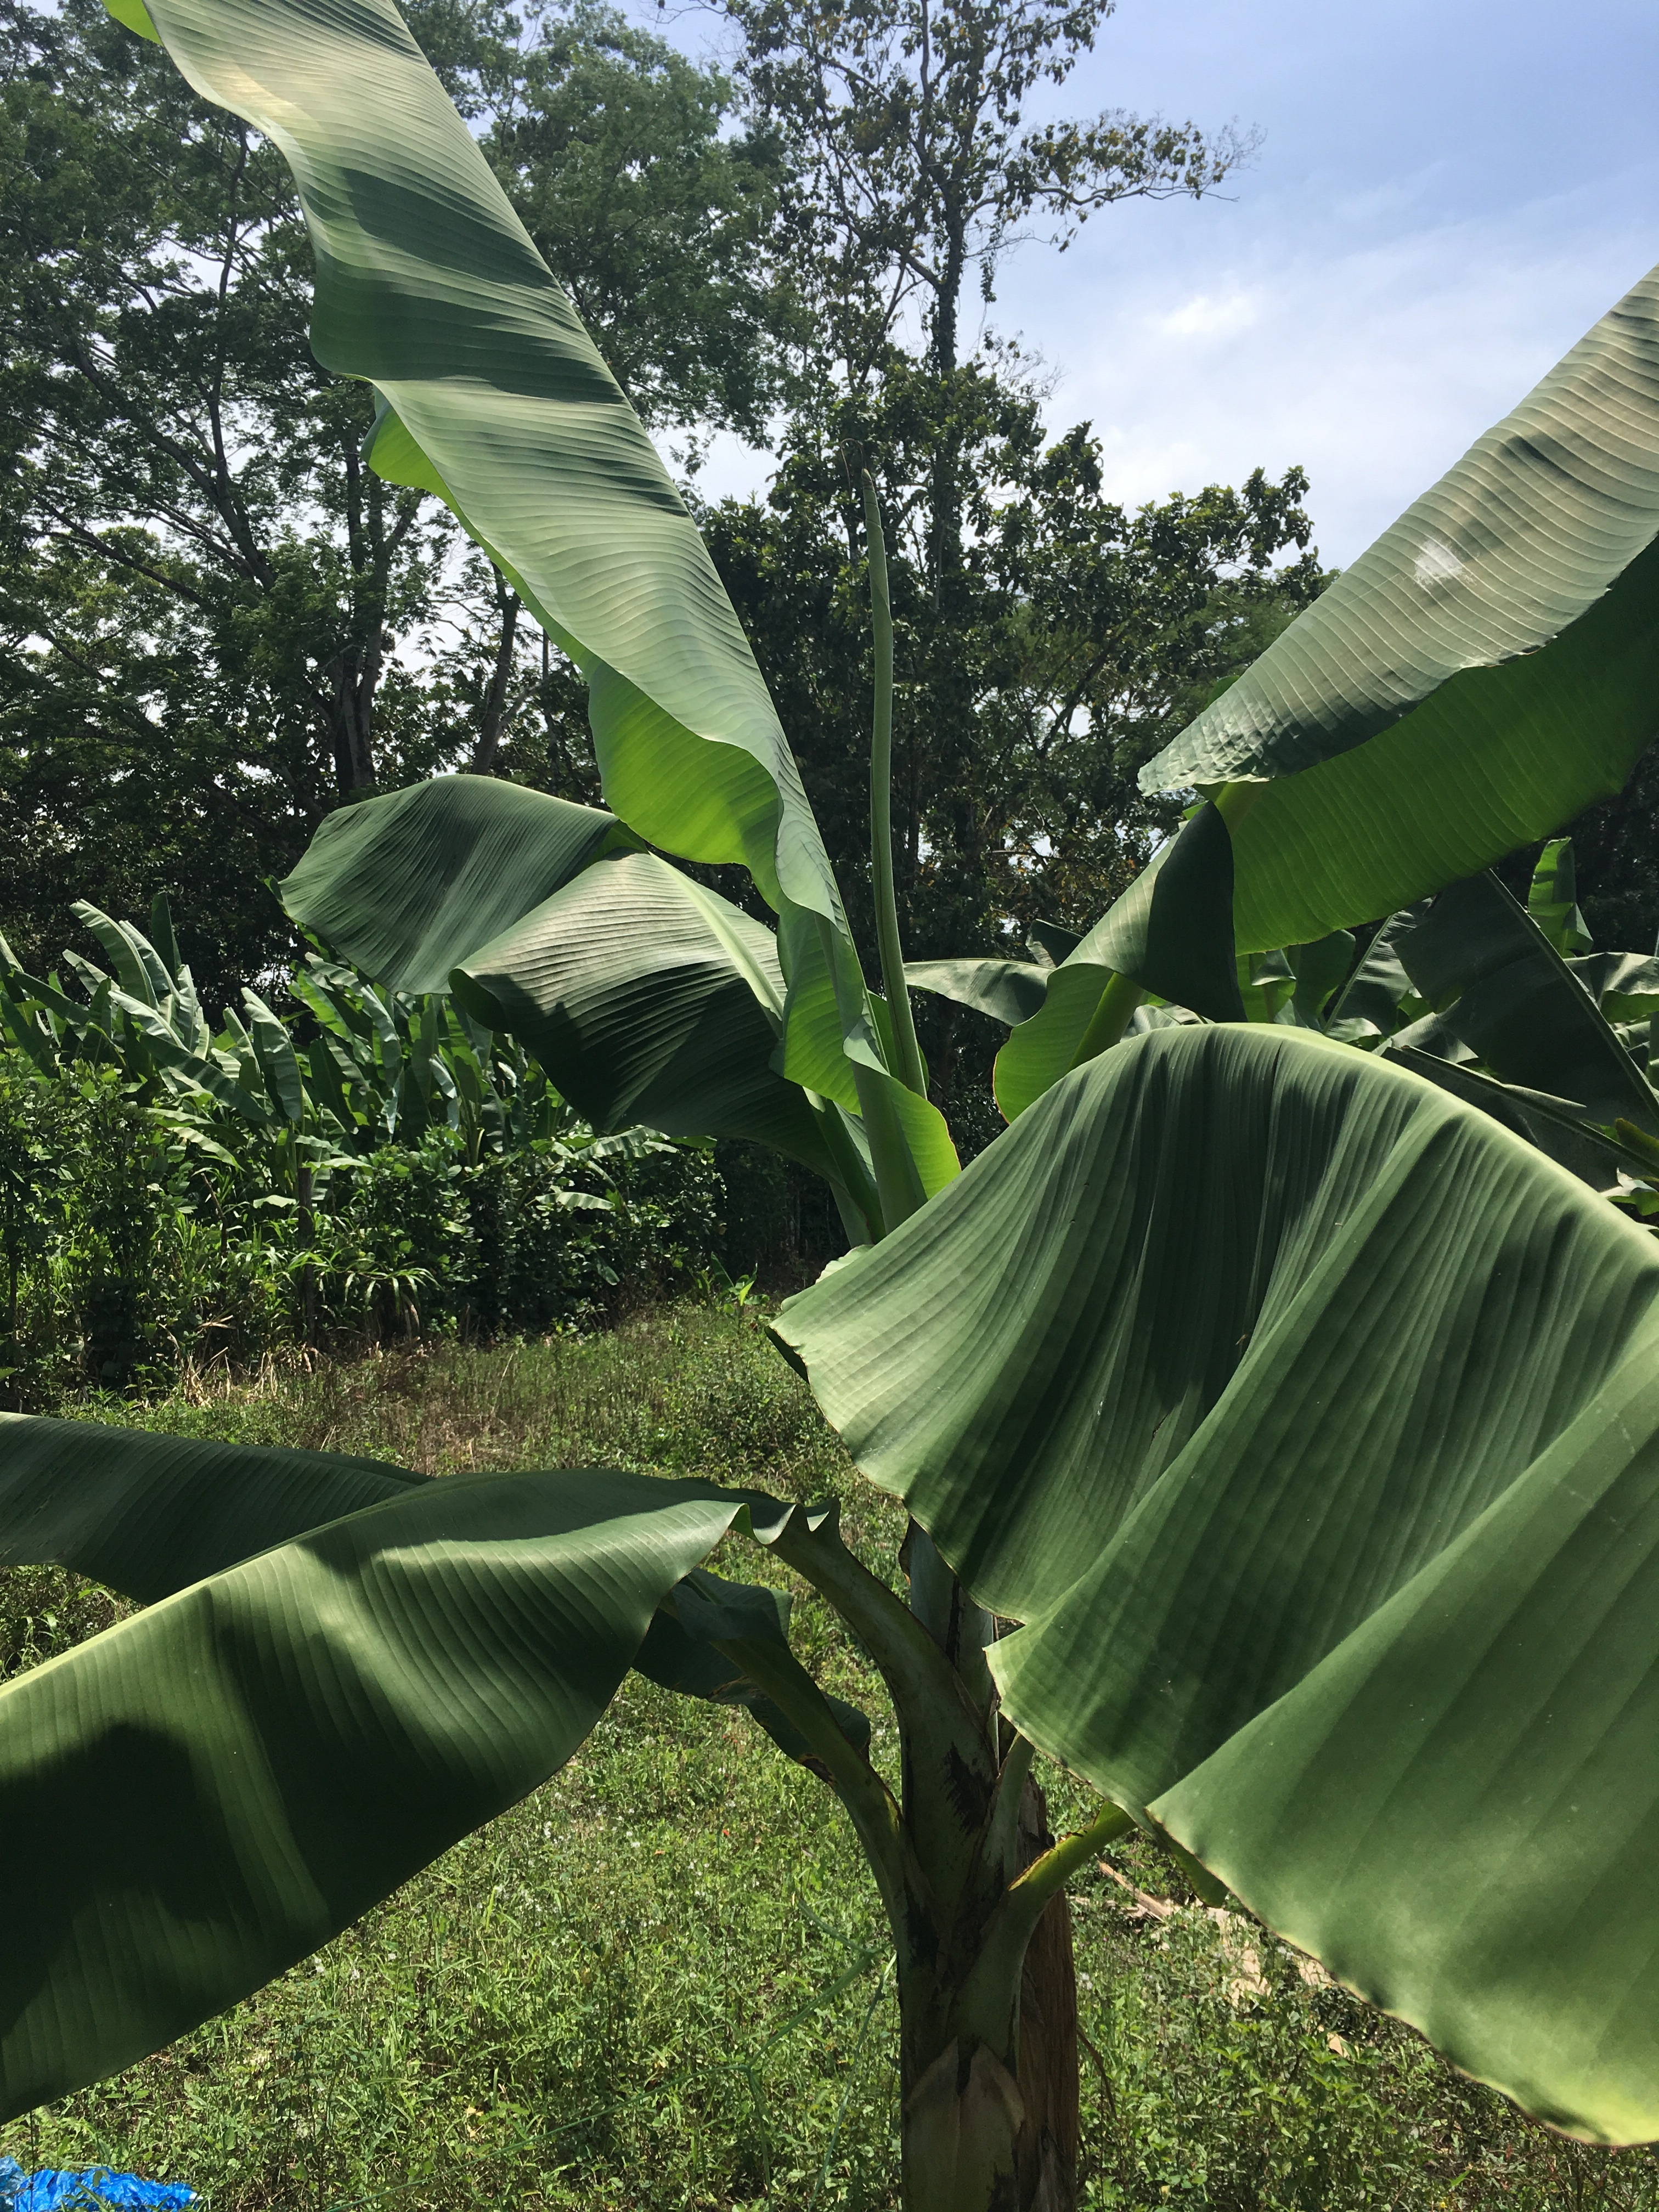candleleafs: (836, 435, 925, 1104)
